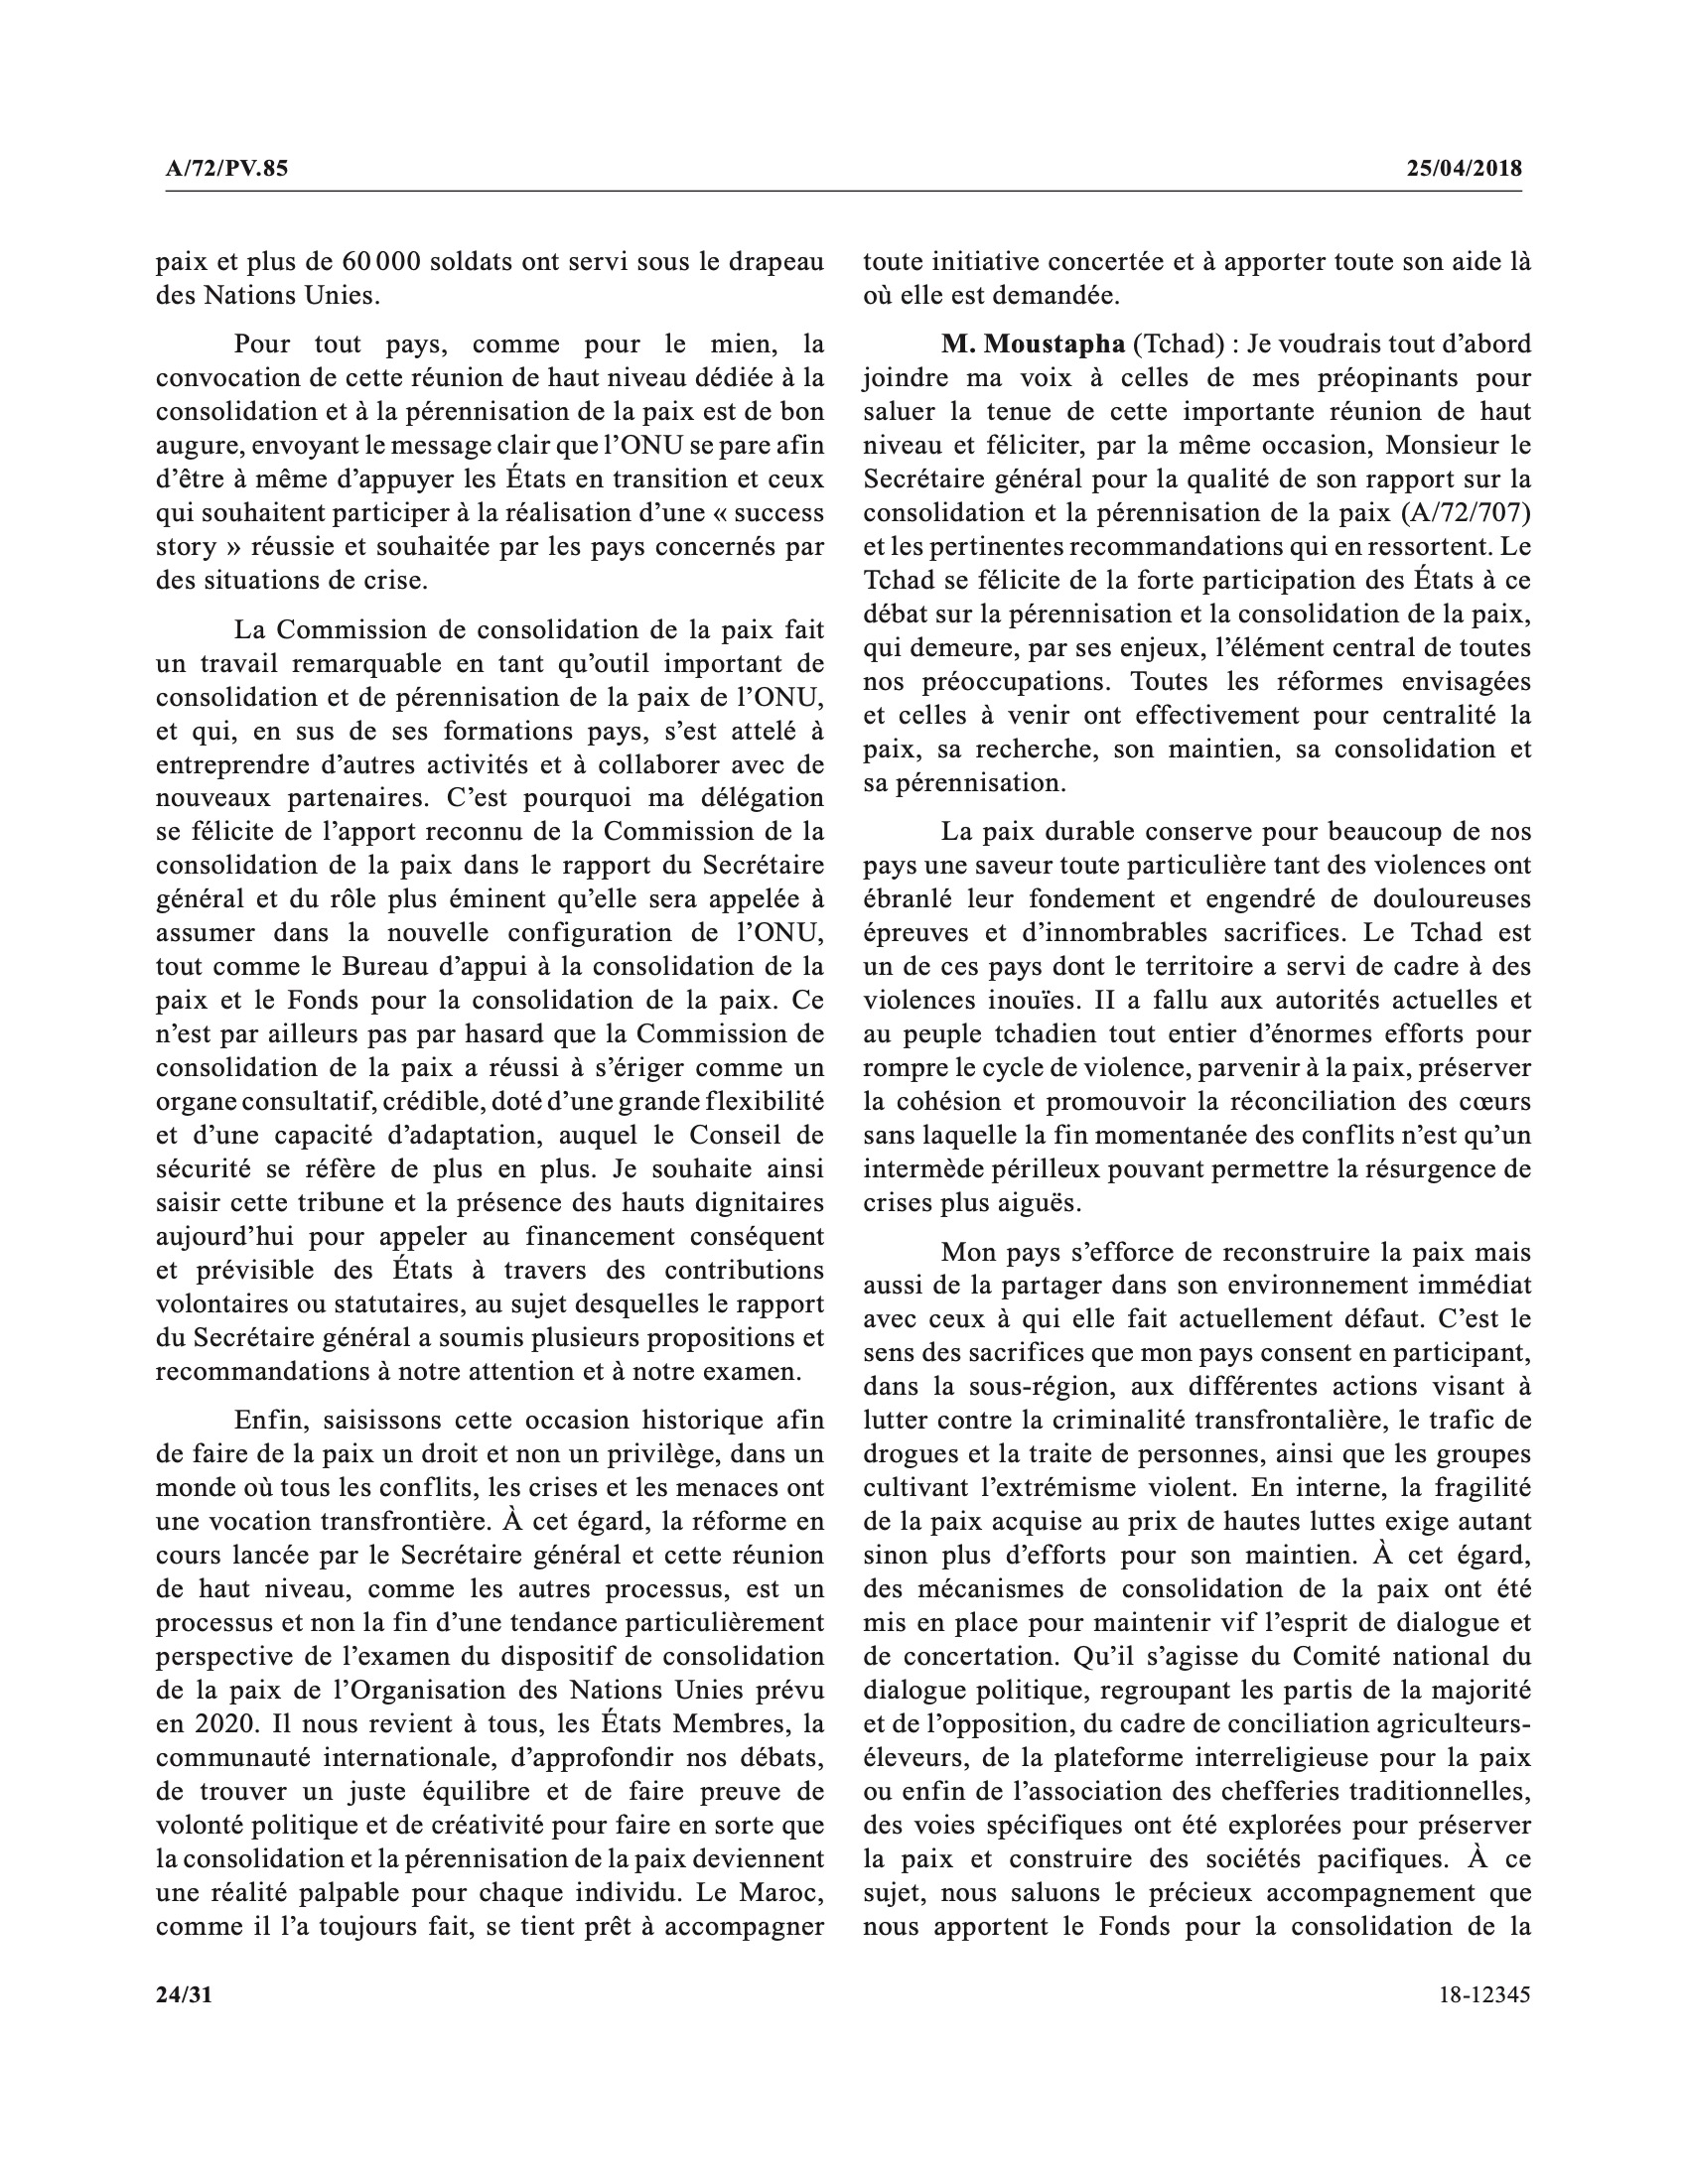MainZone-Continued: (145, 238, 832, 316), (855, 238, 1541, 314)
MainZone-Date: (1399, 149, 1530, 186)
MainZone-P: (145, 610, 833, 1386), (856, 1230, 1544, 1950), (147, 1402, 833, 1948), (858, 324, 1544, 801), (856, 812, 1544, 1223), (147, 326, 832, 599)
NumberingZone: (1431, 1975, 1541, 2014), (149, 1977, 220, 2017)
RunningTitleZone: (158, 149, 298, 190)
